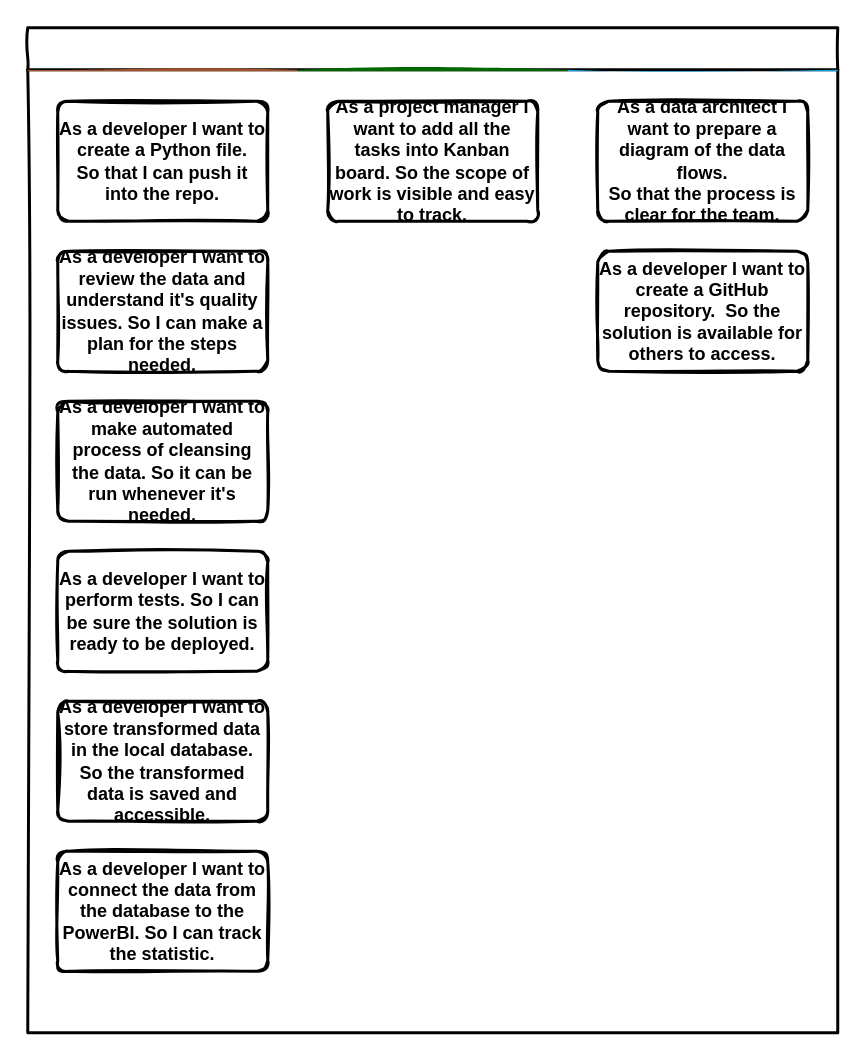
Some shapes in this 864 by 1059 pixel diagram are drawn without their labels. The shapes that lost their labels are listed below. From the top down, each one's box as (x1, y1, x2, y2) in pixels, then its label:
(27, 69, 297, 1032): TO DO
(297, 69, 567, 1032): DOING
(567, 69, 837, 1032): DONE
